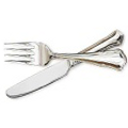fork: (2, 31, 128, 71)
